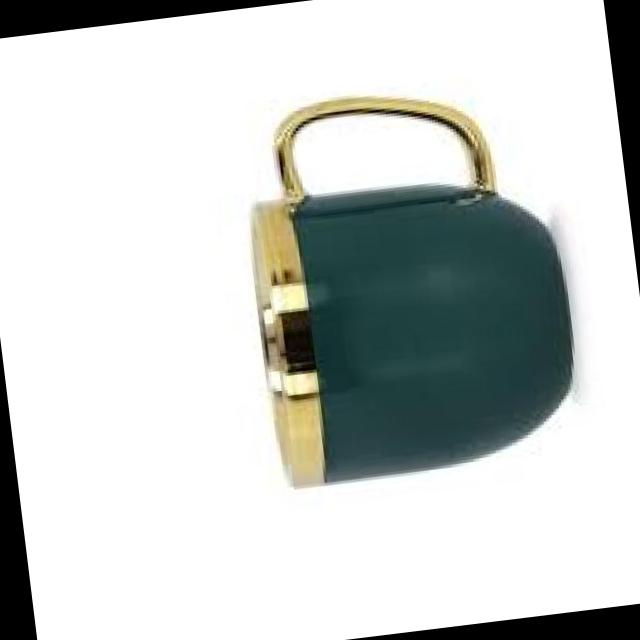Coffee Mug: (233, 76, 584, 487)
